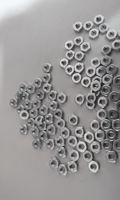nut: (102, 139, 115, 152), (106, 151, 119, 163), (88, 161, 101, 173), (90, 141, 102, 154), (100, 119, 112, 132), (106, 129, 118, 141), (84, 132, 95, 144), (68, 115, 79, 127), (86, 93, 97, 105), (101, 55, 113, 66), (89, 28, 100, 40), (73, 21, 84, 33), (83, 150, 93, 163), (90, 119, 100, 132), (75, 94, 86, 105), (68, 162, 79, 173), (91, 81, 102, 92), (67, 136, 78, 147), (106, 30, 117, 41), (101, 45, 112, 56), (59, 58, 70, 69), (47, 125, 58, 136), (19, 110, 30, 121), (77, 141, 87, 153), (95, 130, 105, 142), (109, 109, 119, 121), (58, 164, 68, 176), (103, 74, 113, 86), (82, 76, 92, 88), (72, 73, 82, 85), (106, 65, 118, 75), (99, 22, 109, 34), (94, 14, 104, 26), (84, 20, 94, 32), (57, 93, 67, 105), (74, 127, 84, 138), (99, 97, 109, 108), (69, 150, 79, 161), (81, 42, 92, 52), (65, 65, 75, 76), (49, 158, 59, 169), (32, 140, 43, 150), (61, 128, 71, 139), (54, 109, 64, 120), (48, 91, 58, 102), (36, 90, 46, 101), (39, 105, 49, 116), (30, 126, 40, 137), (75, 62, 84, 74), (56, 136, 65, 148), (57, 118, 66, 130), (112, 39, 120, 52), (97, 110, 107, 120), (91, 58, 101, 68), (75, 51, 85, 61), (86, 67, 96, 77), (57, 149, 67, 159), (39, 132, 49, 142), (43, 63, 53, 73), (43, 73, 53, 83), (111, 92, 120, 103), (102, 86, 111, 97), (75, 36, 84, 47), (46, 139, 55, 150), (9, 97, 18, 108), (38, 120, 47, 131), (87, 99, 96, 109), (92, 88, 101, 98), (93, 76, 102, 86), (34, 79, 43, 89), (32, 100, 41, 110), (29, 108, 38, 118), (49, 101, 58, 111), (15, 106, 25, 115), (27, 84, 35, 95), (20, 125, 28, 136), (65, 40, 74, 49), (21, 92, 30, 101), (45, 114, 54, 123), (43, 83, 51, 93), (114, 139, 120, 152), (113, 121, 120, 132), (114, 76, 120, 88), (19, 83, 27, 92), (24, 102, 32, 110), (66, 50, 73, 59), (97, 68, 106, 75), (27, 119, 36, 126), (36, 116, 44, 123), (116, 101, 120, 112), (118, 27, 120, 39)
